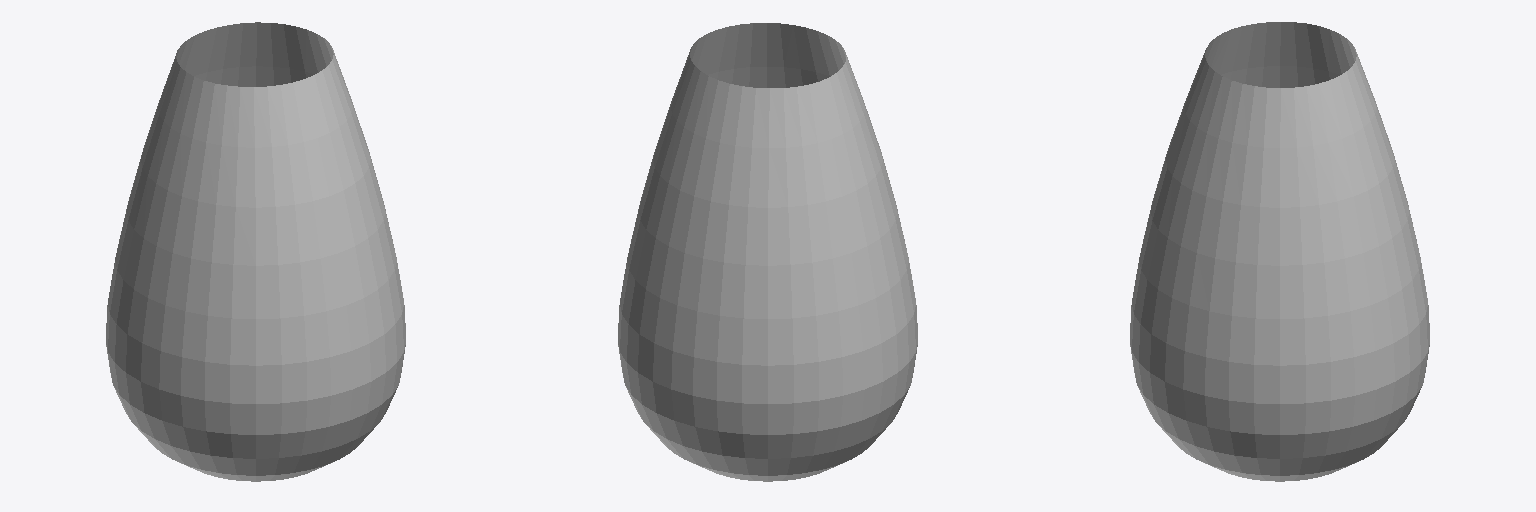
Rendered from Liquid.obj.
3 renders of one model, left to right at view 1: azimuth 30°, elevation 25°; view 2: azimuth 150°, elevation 25°; view 3: azimuth 270°, elevation 25°, orthographic.
Visible parts, largest first — view 1: Liquido_Cube.001; view 2: Liquido_Cube.001; view 3: Liquido_Cube.001.
Boxes of the visible parts, x1=… form: Liquido_Cube.001: x1=106, y1=22, x2=405, y2=481; Liquido_Cube.001: x1=618, y1=23, x2=917, y2=481; Liquido_Cube.001: x1=1130, y1=22, x2=1429, y2=481.
Bounding box in the file's own units: 0.8168 × 1.2 × 0.8167.